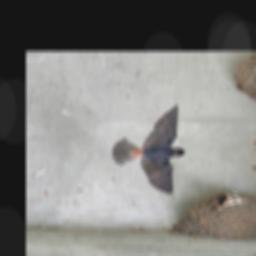Swallow: (109, 102, 188, 195)
